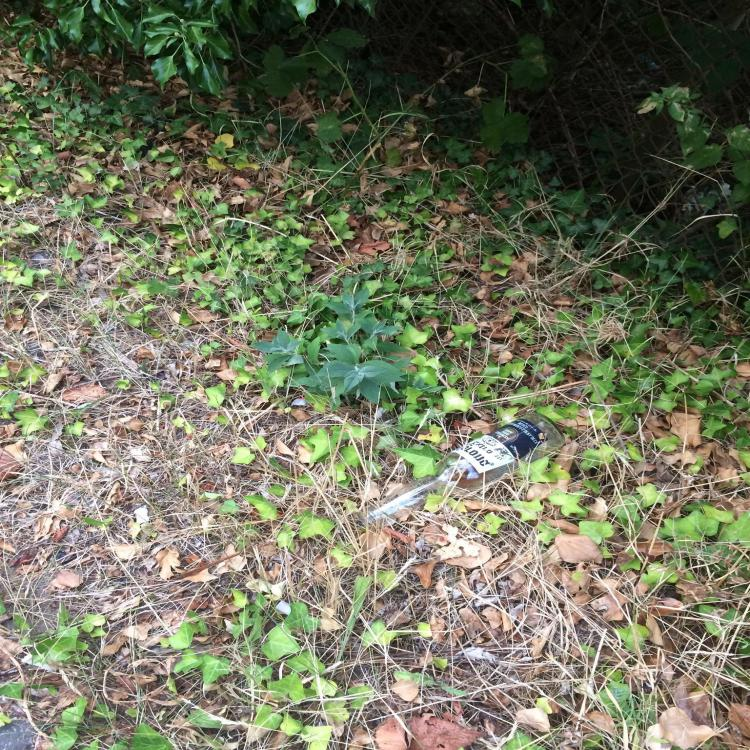Glass bottle: (358, 412, 565, 529)
Other plastic: (291, 396, 309, 406)
